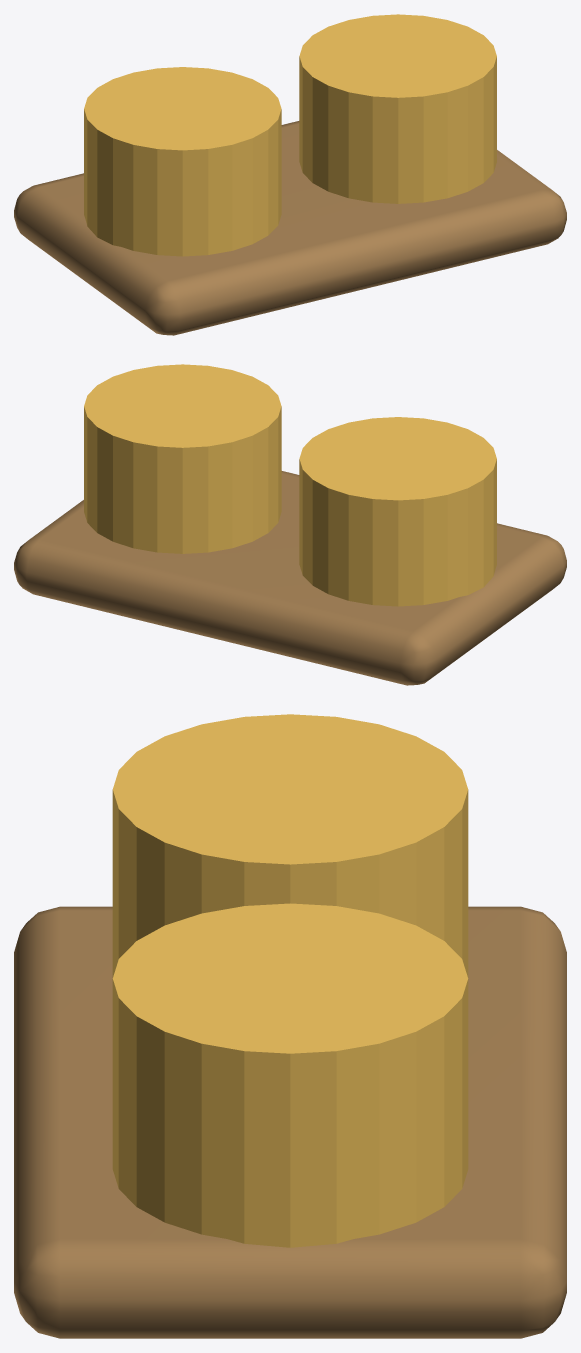
Rendered from cheese_tray.glb.
The picture shows the model from 3 angles, top to bottom: view 1: azimuth 30°, elevation 25°; view 2: azimuth 150°, elevation 25°; view 3: azimuth 270°, elevation 25°; orthographic projection. The views are drawn at different scales.
Parts seen in each view (by area): view 1: Tray, Cheese, Cheese.001; view 2: Tray, Cheese, Cheese.001; view 3: Tray, Cheese.001, Cheese.
Part boxes in pixels (box(x1,y1,x2,y2)): Tray: box(14, 121, 566, 335); Cheese: box(84, 67, 281, 256); Cheese.001: box(299, 14, 496, 203); Tray: box(14, 471, 566, 685); Cheese: box(299, 417, 496, 606); Cheese.001: box(84, 364, 281, 553); Tray: box(14, 906, 566, 1338); Cheese.001: box(112, 903, 468, 1247); Cheese: box(112, 714, 468, 977).
Size of the model in its own units: 0.66 by 0.24 by 0.42.
